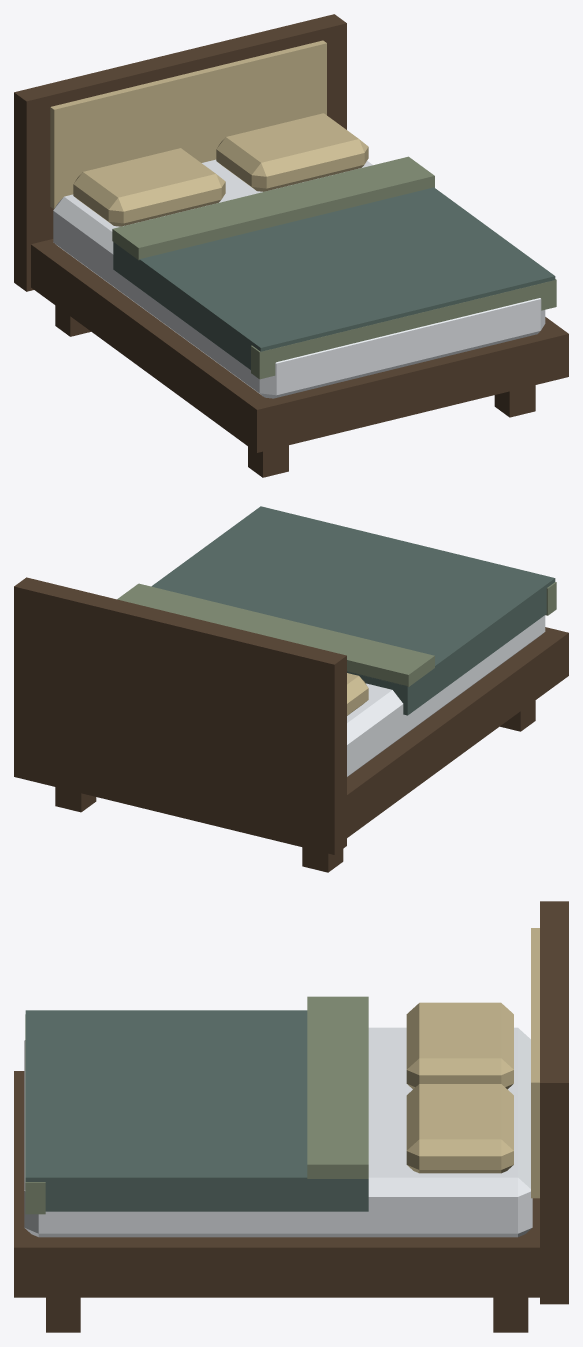
The model's file is prop-bed.glb.
3 views of the same model, one above another, from view 1: azimuth 30°, elevation 25°; view 2: azimuth 150°, elevation 25°; view 3: azimuth 270°, elevation 25° (orthographic). The views are drawn at different scales.
Visible parts, largest first — view 1: sage_cover, bed_frame, headboard_inset, cream_mattress, headboard, folded_cover_edge, pillow_-0.165, pillow_0.165, blanket_foot_hem, timber_foot_-0.285_-0.385, timber_foot_0.285_-0.385; view 2: headboard, sage_cover, bed_frame, folded_cover_edge, cream_mattress, timber_foot_-0.285_0.385, timber_foot_0.285_0.385, pillow_-0.165, timber_foot_-0.285_-0.385; view 3: sage_cover, bed_frame, cream_mattress, headboard, folded_cover_edge, pillow_0.165, pillow_-0.165, headboard_inset, timber_foot_0.285_0.385, timber_foot_0.285_-0.385, blanket_foot_hem.
Boxes of the visible parts, left/top/right/bottom form: sage_cover: left=113, top=187, right=555, bottom=369; bed_frame: left=31, top=239, right=568, bottom=452; headboard_inset: left=50, top=40, right=326, bottom=208; cream_mattress: left=53, top=159, right=545, bottom=398; headboard: left=14, top=14, right=346, bottom=291; folded_cover_edge: left=112, top=156, right=434, bottom=260; pillow_-0.165: left=73, top=148, right=225, bottom=226; pillow_0.165: left=216, top=113, right=368, bottom=191; blanket_foot_hem: left=251, top=279, right=556, bottom=379; timber_foot_-0.285_-0.385: left=248, top=445, right=288, bottom=477; timber_foot_0.285_-0.385: left=494, top=385, right=535, bottom=417; headboard: left=14, top=577, right=346, bottom=854; sage_cover: left=151, top=506, right=555, bottom=715; bed_frame: left=347, top=627, right=568, bottom=837; folded_cover_edge: left=117, top=583, right=434, bottom=686; cream_mattress: left=347, top=615, right=545, bottom=776; timber_foot_-0.285_0.385: left=302, top=847, right=343, bottom=872; timber_foot_0.285_0.385: left=55, top=787, right=96, bottom=812; pillow_-0.165: left=347, top=673, right=368, bottom=715; timber_foot_-0.285_-0.385: left=500, top=700, right=535, bottom=731; sage_cover: left=25, top=1010, right=368, bottom=1211; bed_frame: left=14, top=1071, right=539, bottom=1297; cream_mattress: left=24, top=1027, right=532, bottom=1237; headboard: left=540, top=901, right=568, bottom=1304; folded_cover_edge: left=307, top=996, right=368, bottom=1178; pillow_0.165: left=406, top=1084, right=513, bottom=1173; pillow_-0.165: left=406, top=1002, right=513, bottom=1089; headboard_inset: left=531, top=928, right=539, bottom=1198; timber_foot_0.285_0.385: left=493, top=1297, right=528, bottom=1332; timber_foot_0.285_-0.385: left=46, top=1297, right=80, bottom=1332; blanket_foot_hem: left=25, top=1014, right=45, bottom=1214.
Size of the model in its own units: 0.74 by 0.5 by 0.955.
